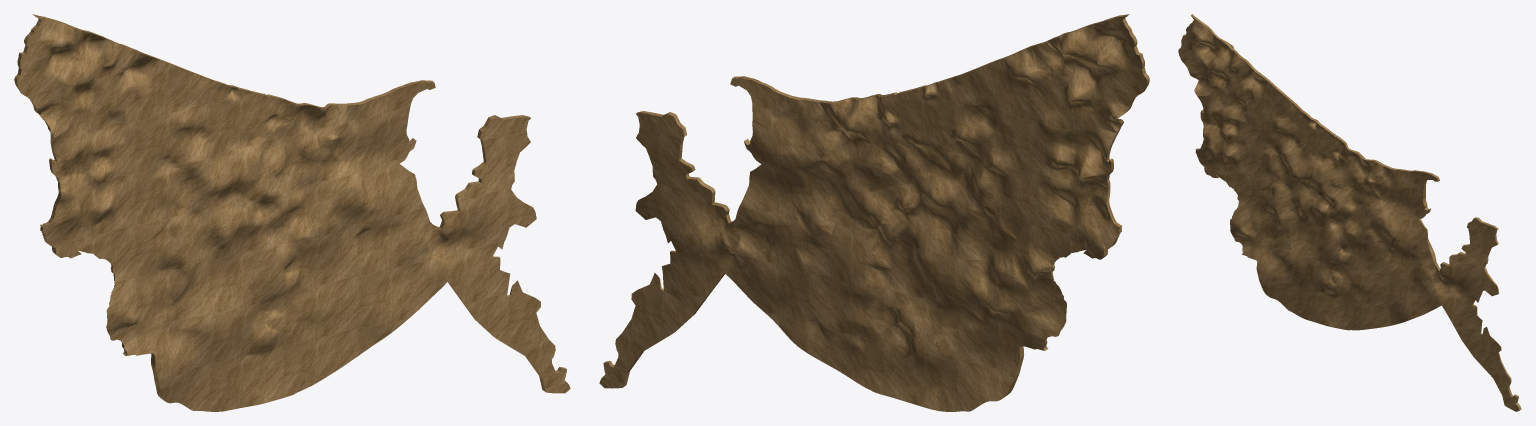
3 renders of one model, left to right at view 1: azimuth 30°, elevation 25°; view 2: azimuth 150°, elevation 25°; view 3: azimuth 330°, elevation 25°, orthographic. The views are drawn at different scales.
Bounding box in the file's own units: 24213 × 21145 × 1472.
3 materials, 3 textured.
